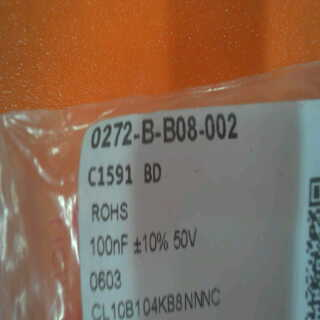100nF: (88, 227, 134, 267)
